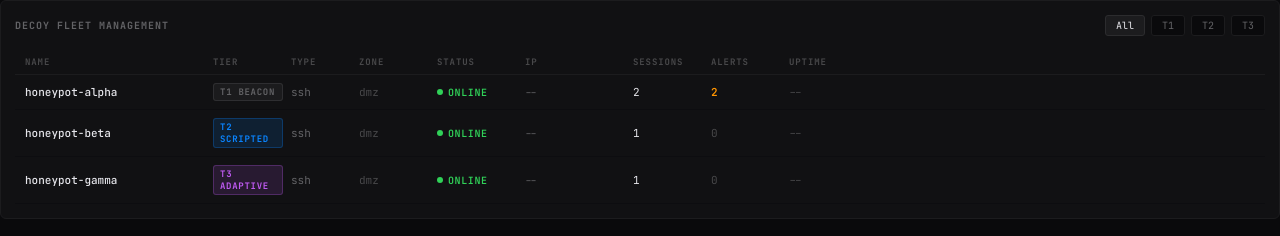
Test: DecoyFleet › filters by tier when T1 is clicked
Click the button "T1" at (1168, 26), box [1151, 15, 1185, 36]
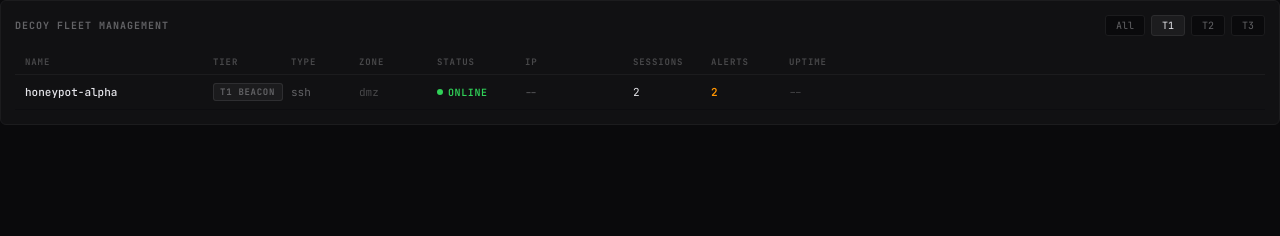
Expected: the text "honeypot-alpha" is shown, [25, 85, 117, 99]
Result: the text "honeypot-beta" is gone
Result: the text "honeypot-gamma" is gone
